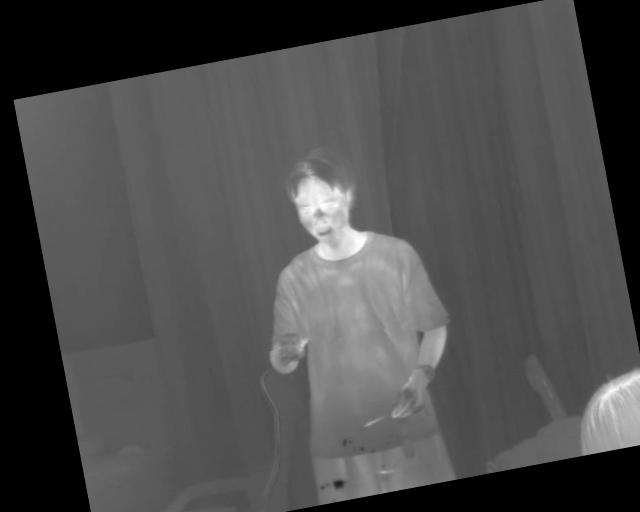face: (280, 144, 364, 253)
